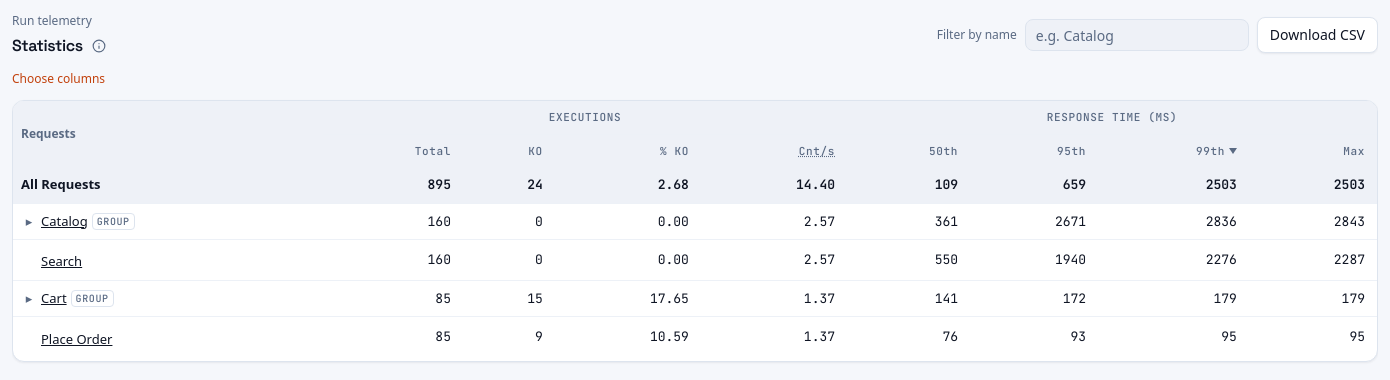
Test: StatisticsTable — the name filter (G-14) › shows the match itself, open inside the group that gives it context
Type "Recommend" into the search field labelled "Filter by name".
click(1137, 35); type("Recommend")  # box [1025,19,1249,51]
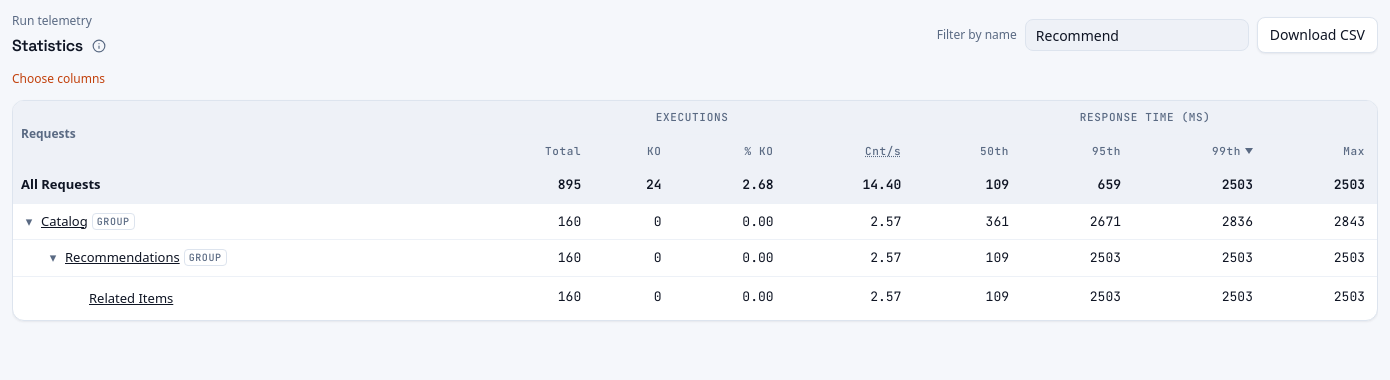
Check: the link "Recommendations" is shown, box [65,248,180,268]
